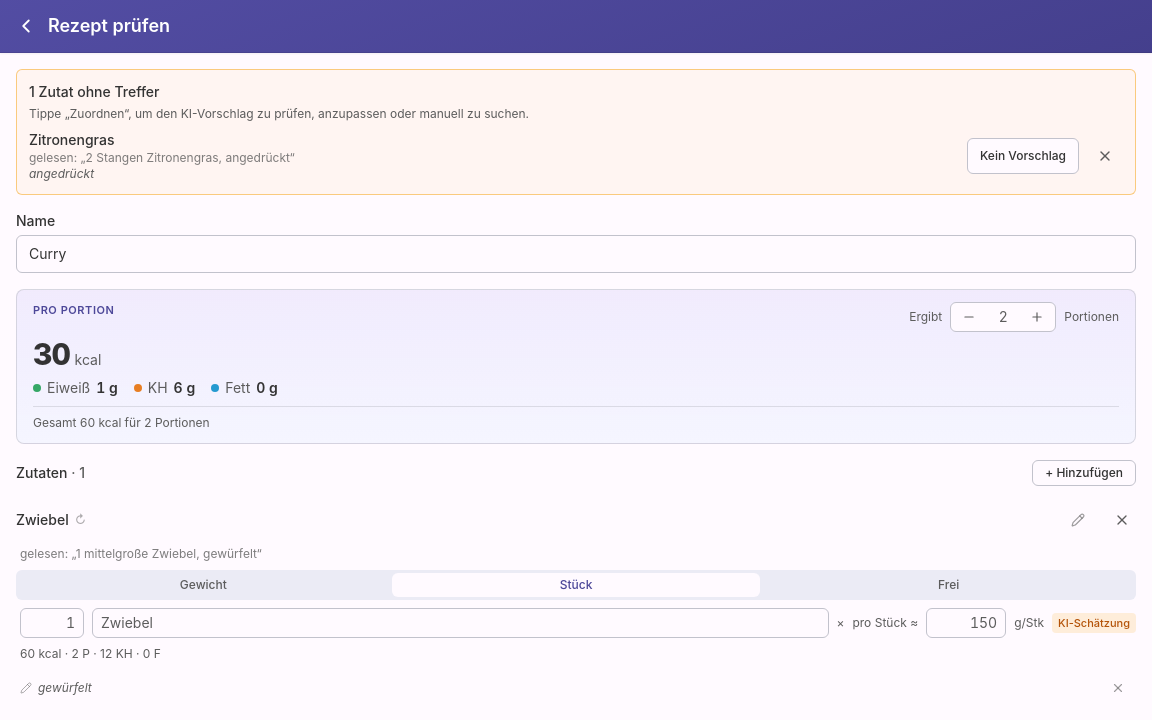
Test: ReviewImportScreen › verbatim read › shows the printed line in the resolve sheet opened for an unmatched row
The image size is (1152, 720).
Click the button labelled "Kein Vorschlag" at (1023, 156), box x1=967 y1=138 x2=1079 y2=174
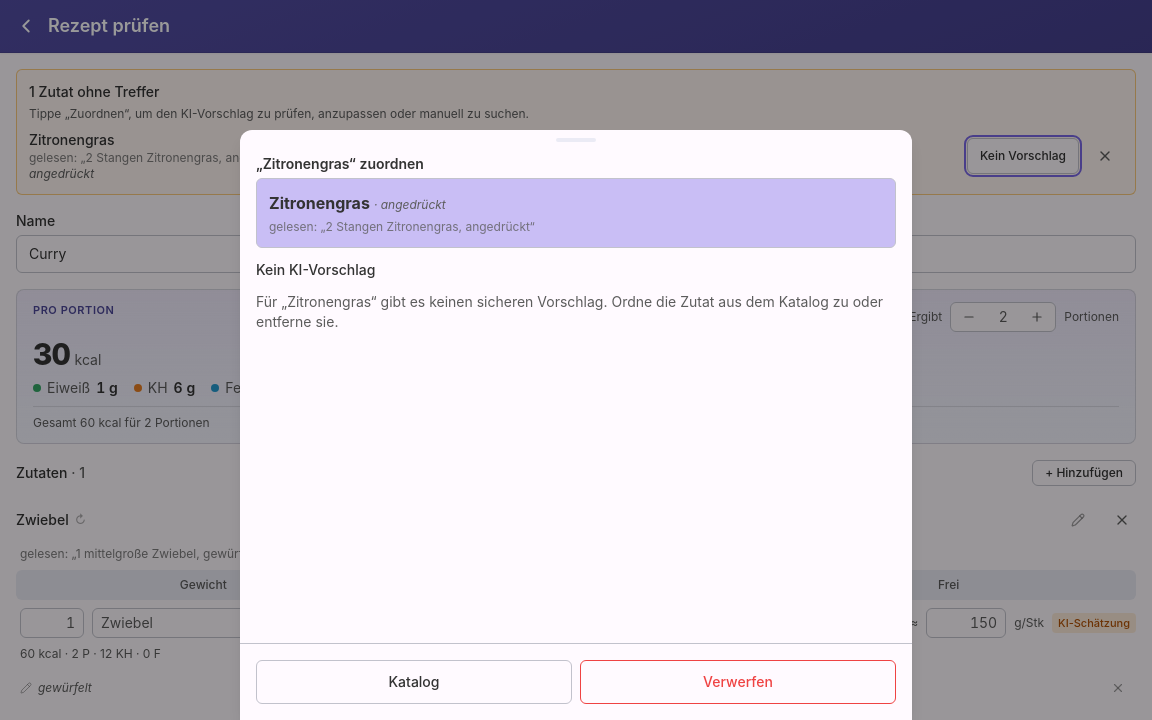
Check: the text named "gelesener text für zitronengras" shows "2 Stangen Zitronengras, angedrückt", box x1=269 y1=219 x2=535 y2=234
